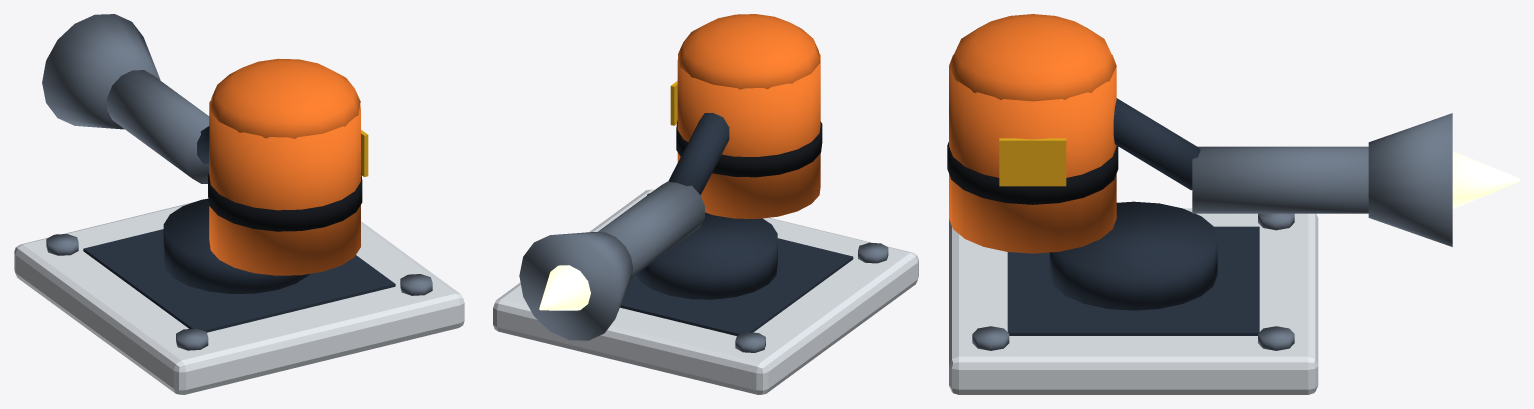
File: flamer.fbx
The picture shows the model from 3 angles, left to right: view 1: azimuth 30°, elevation 25°; view 2: azimuth 150°, elevation 25°; view 3: azimuth 270°, elevation 25°; orthographic projection. The views are drawn at different scales.
Parts seen in each view (by area): view 1: Panel_Plate0.009, Fuel_Tank0, Inset_Inset0.009, Fuel_TankTop0, Gun_Nozzle0, Gun_Pipe0, Inset_Ring0.009, Tread_TankBand0, Gun_Bolt1.009, Gun_Bolt2.009, Gun_Bolt0.009, Inset_Hose0; view 2: Panel_Plate0.009, Fuel_Tank0, Inset_Ring0.009, Fuel_TankTop0, Inset_Inset0.009, Gun_Nozzle0, Gun_Pipe0, Inset_Hose0, Tread_TankBand0, Flame_Pilot0, Gun_Bolt1.009, Gun_Bolt0.009; view 3: Panel_Plate0.009, Fuel_Tank0, Inset_Inset0.009, Inset_Ring0.009, Gun_Pipe0, Fuel_TankTop0, Gun_Nozzle0, Inset_Hose0, Tread_TankBand0, Hazard_Label0, Flame_Pilot0, Gun_Bolt2.009 (+2 smaller).
Part boxes in pixels (<box>): Panel_Plate0.009: <box>14,202,464,394</box>; Fuel_Tank0: <box>209,100,360,275</box>; Inset_Inset0.009: <box>83,229,395,332</box>; Fuel_TankTop0: <box>209,58,360,138</box>; Gun_Nozzle0: <box>42,14,160,129</box>; Gun_Pipe0: <box>107,70,209,183</box>; Inset_Ring0.009: <box>163,198,309,293</box>; Tread_TankBand0: <box>208,171,362,231</box>; Gun_Bolt1.009: <box>46,234,78,255</box>; Gun_Bolt2.009: <box>400,274,432,295</box>; Gun_Bolt0.009: <box>176,328,208,350</box>; Inset_Hose0: <box>197,126,209,164</box>; Panel_Plate0.009: <box>493,189,918,394</box>; Fuel_Tank0: <box>677,53,820,218</box>; Inset_Ring0.009: <box>636,212,777,299</box>; Fuel_TankTop0: <box>678,14,820,89</box>; Inset_Inset0.009: <box>620,238,853,335</box>; Gun_Nozzle0: <box>519,232,633,340</box>; Gun_Pipe0: <box>598,180,704,277</box>; Inset_Hose0: <box>668,113,729,194</box>; Tread_TankBand0: <box>676,120,822,177</box>; Flame_Pilot0: <box>539,265,590,310</box>; Gun_Bolt1.009: <box>735,332,765,352</box>; Gun_Bolt0.009: <box>858,242,888,263</box>; Panel_Plate0.009: <box>949,208,1318,394</box>; Fuel_Tank0: <box>949,54,1116,253</box>; Inset_Inset0.009: <box>1007,226,1259,335</box>; Inset_Ring0.009: <box>1049,201,1217,310</box>; Gun_Pipe0: <box>1192,146,1368,213</box>; Fuel_TankTop0: <box>949,14,1116,101</box>; Gun_Nozzle0: <box>1368,113,1452,246</box>; Inset_Hose0: <box>1113,98,1200,190</box>; Tread_TankBand0: <box>947,142,1118,204</box>; Hazard_Label0: <box>999,138,1066,186</box>; Flame_Pilot0: <box>1452,151,1519,208</box>; Gun_Bolt2.009: <box>972,326,1009,350</box>.
Size of the model in its own units: 0.44 by 0.682 by 0.385.
